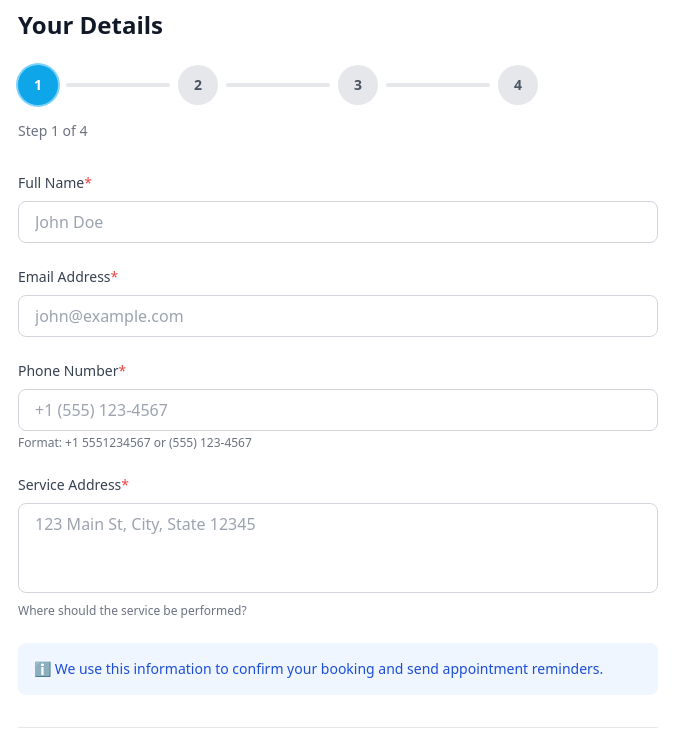
Scenario: BookingForm - Comprehensive Test Suite › Form Validation › should validate email format
Type "invalid-email" into the field labelled "Email Address*".
click(338, 316); type("invalid-email")  # box [18, 295, 658, 337]
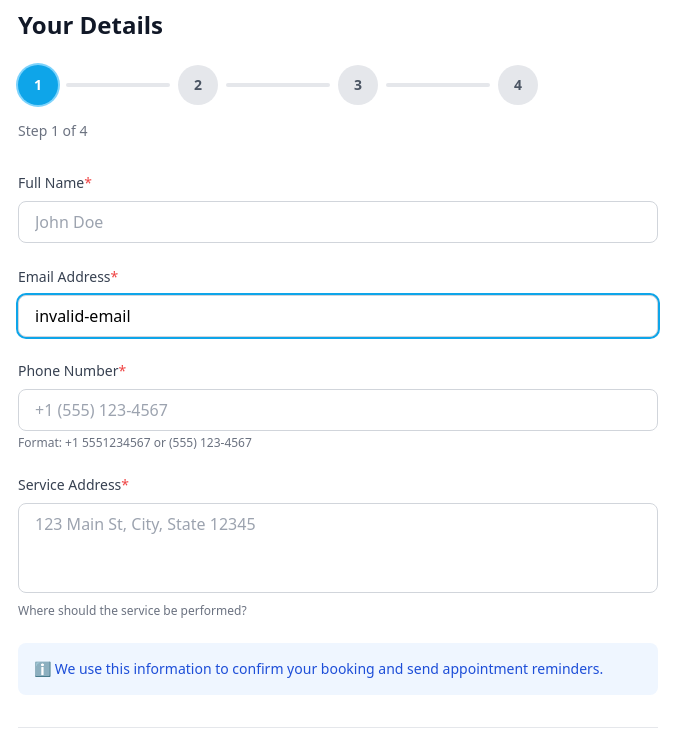
Leave the field labelled "Email Address*", box [18, 295, 658, 337]
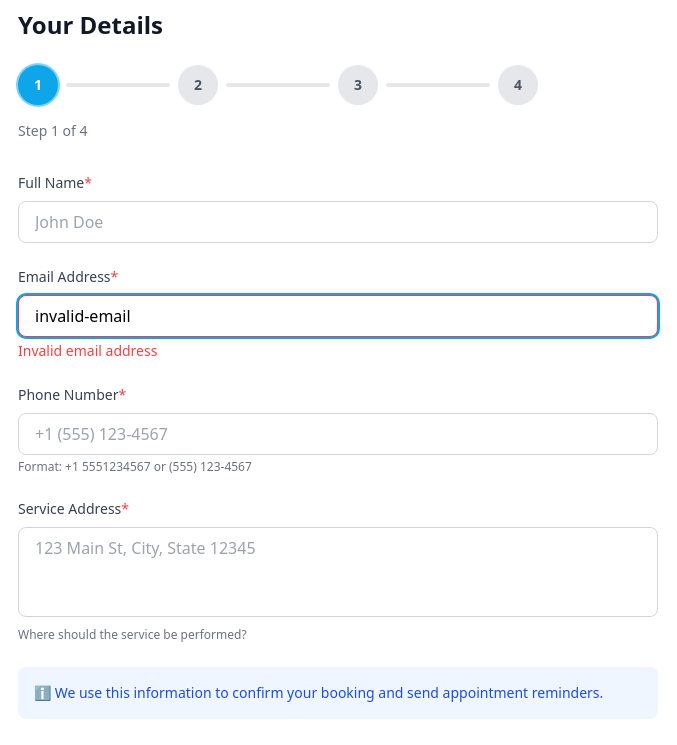
Now the text "Invalid email address" is shown, box [18, 341, 157, 360]
